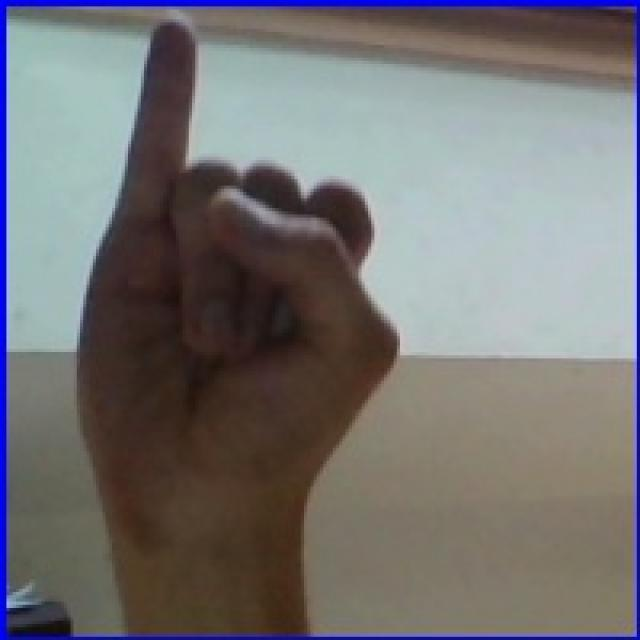I: (57, 8, 414, 634)
